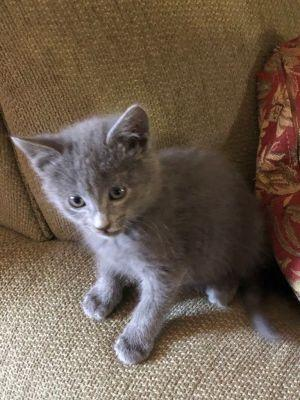rblue: (12, 92, 165, 261)
